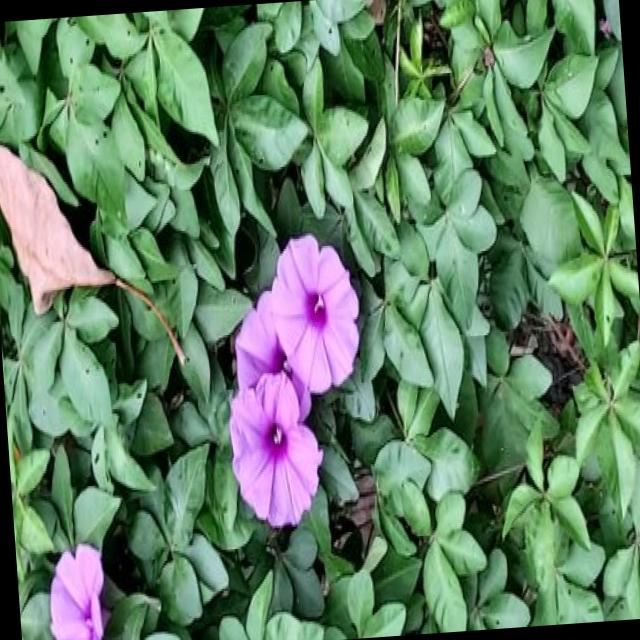ipomoea: (212, 225, 378, 533), (264, 225, 368, 400), (222, 365, 330, 533)
